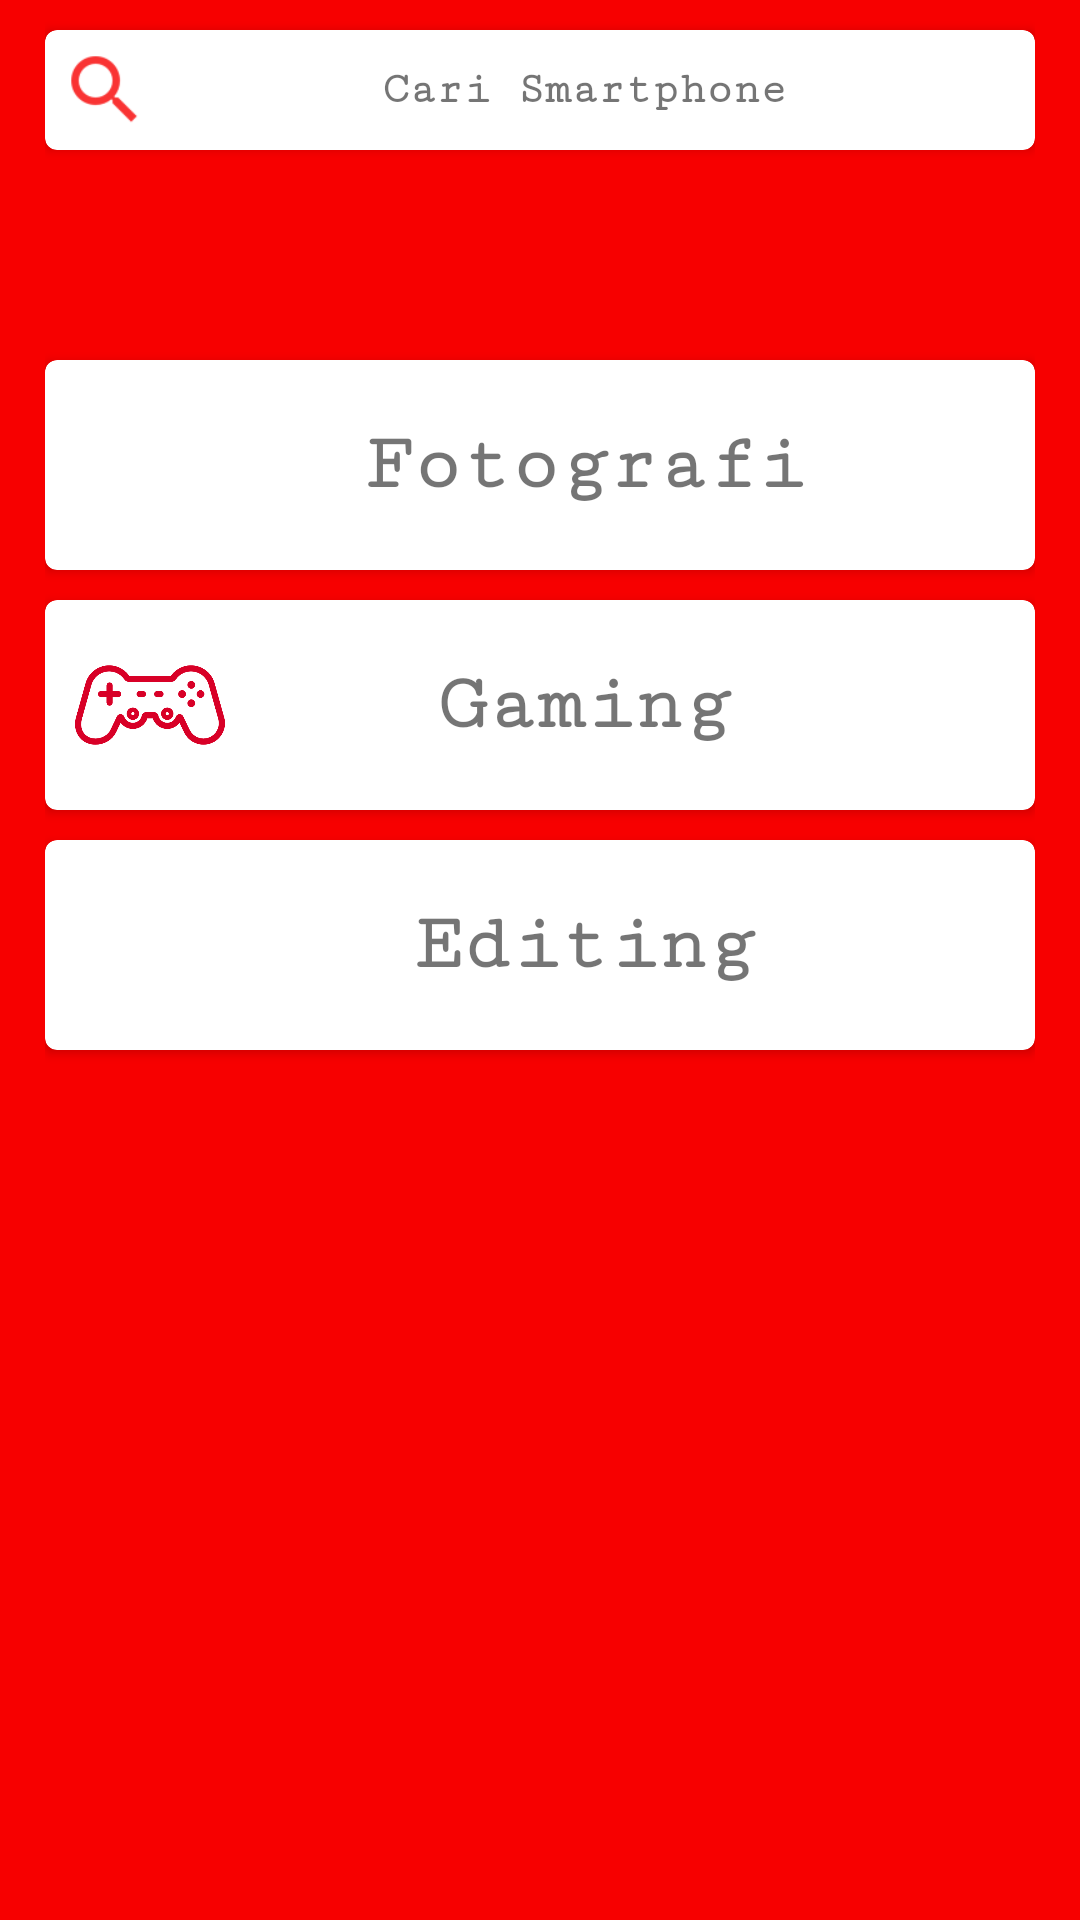

Named icons in this screenshot (1080×1920) and their bounding boxes, (x1, y1, x2, y2):
gamepad: (75, 665, 225, 745)
search: (71, 56, 137, 122)
